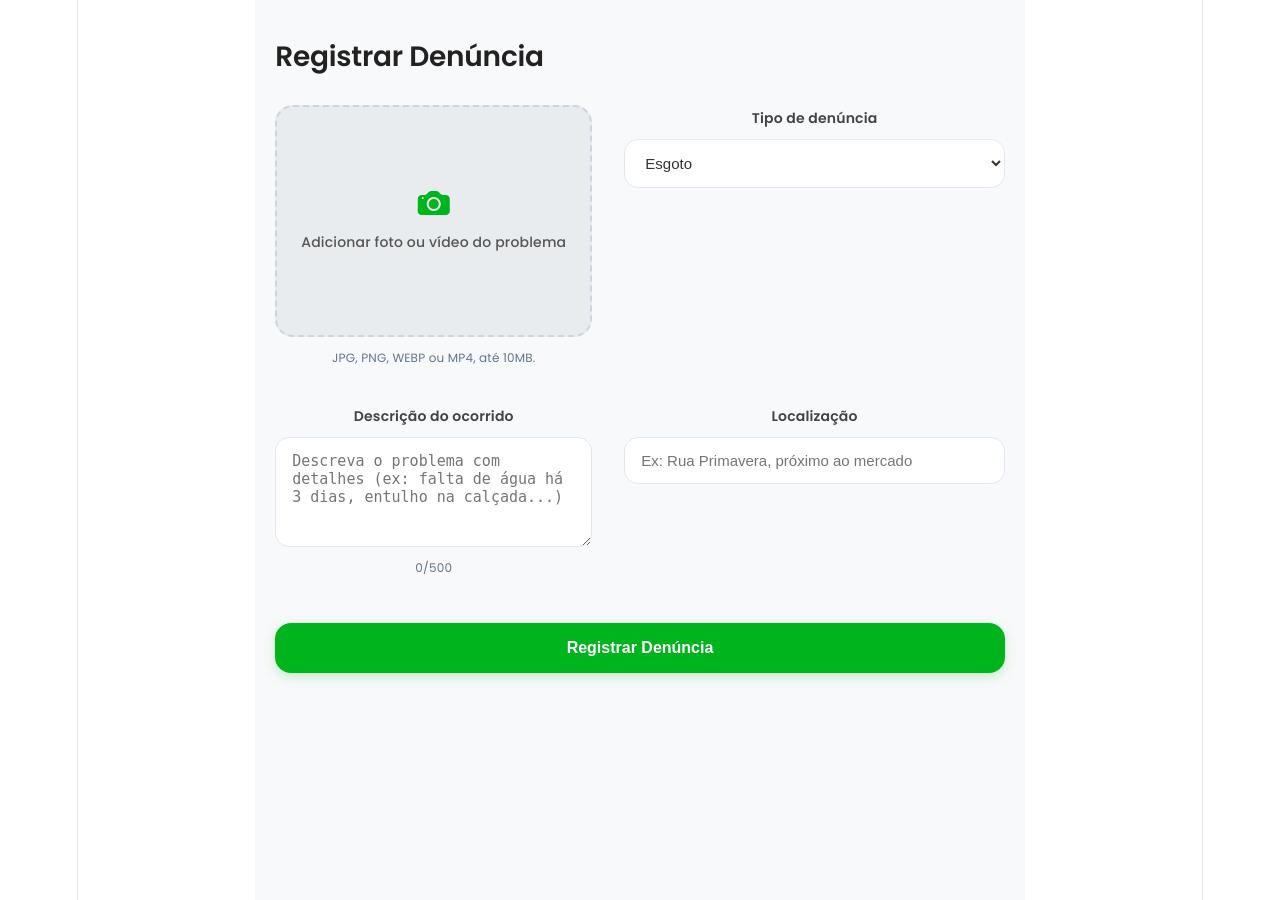
Test case: ReportPage › exige mídia, com mensagem em português
The width and height of the screenshot is (1280, 900).
Type "Esgoto vazando na rua" into the text box labelled "Descrição do ocorrido". click: (434, 492)
box: [275,437,592,547]
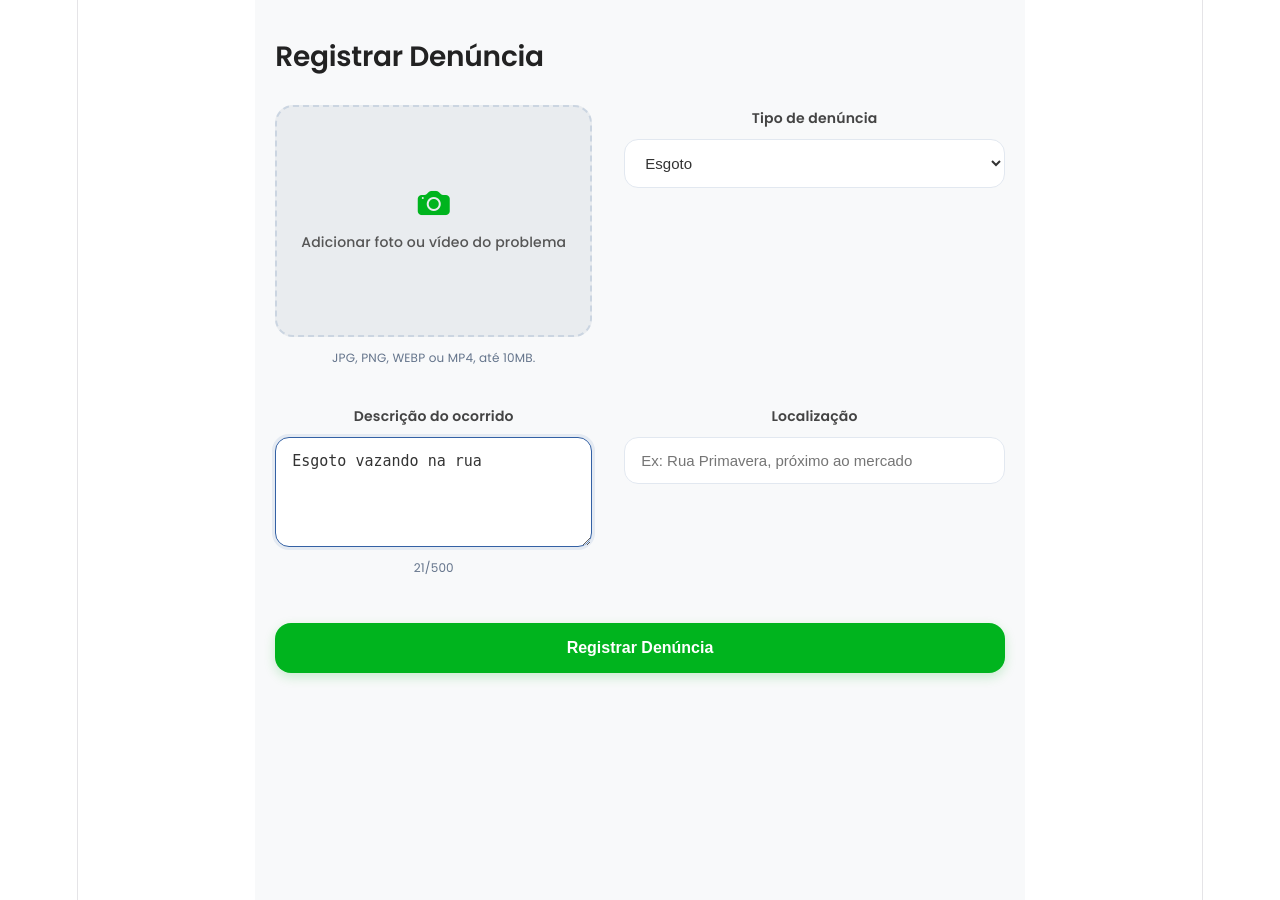
Type "Rua Primavera" into the field labelled "Localização". click: (815, 461)
box: [624,437,1005,484]
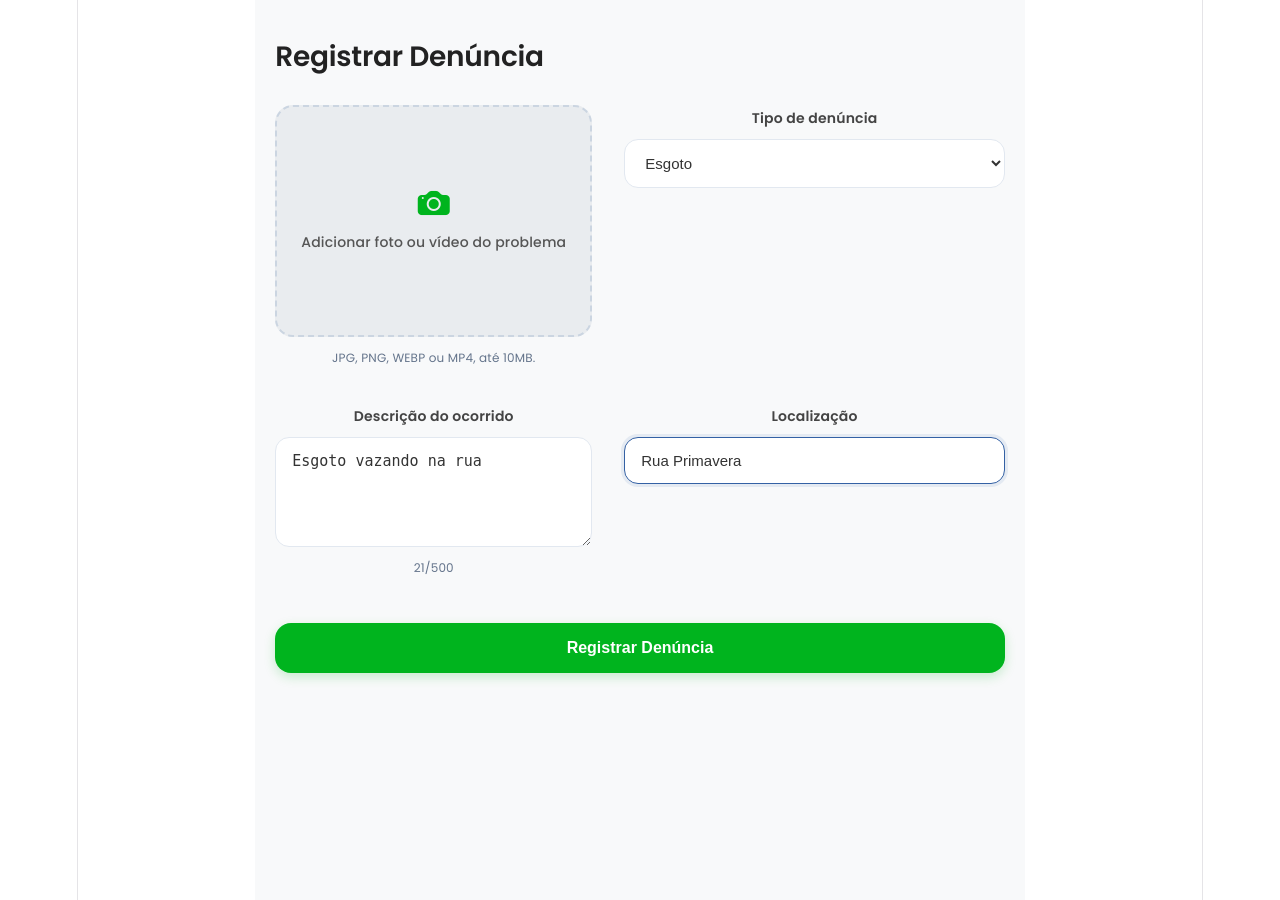
Click the button "Registrar Denúncia". click: (640, 648)
box: [275,623,1005,673]
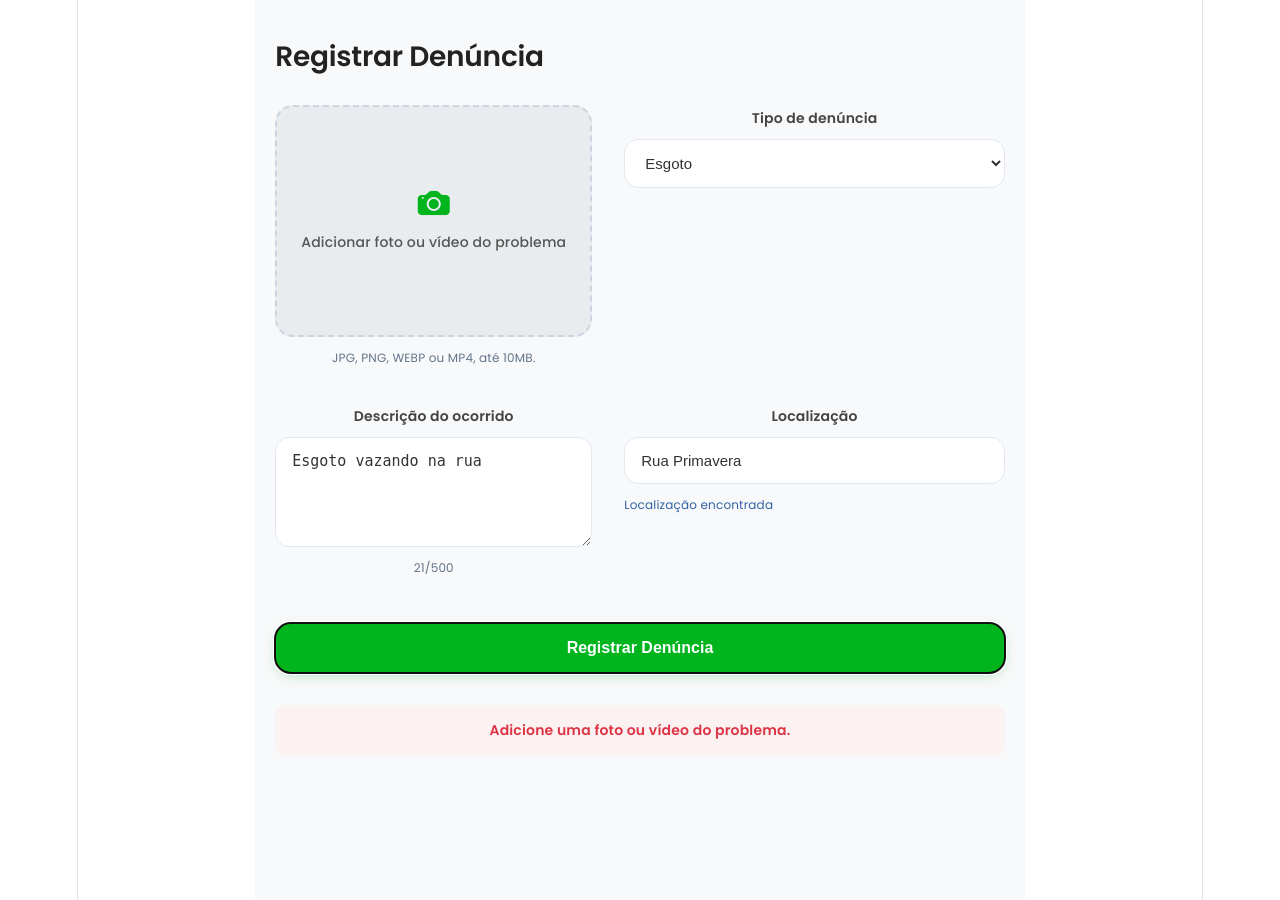
Check: the message "Adicione uma foto ou vídeo do problema." is shown, box [275,705,1005,755]
